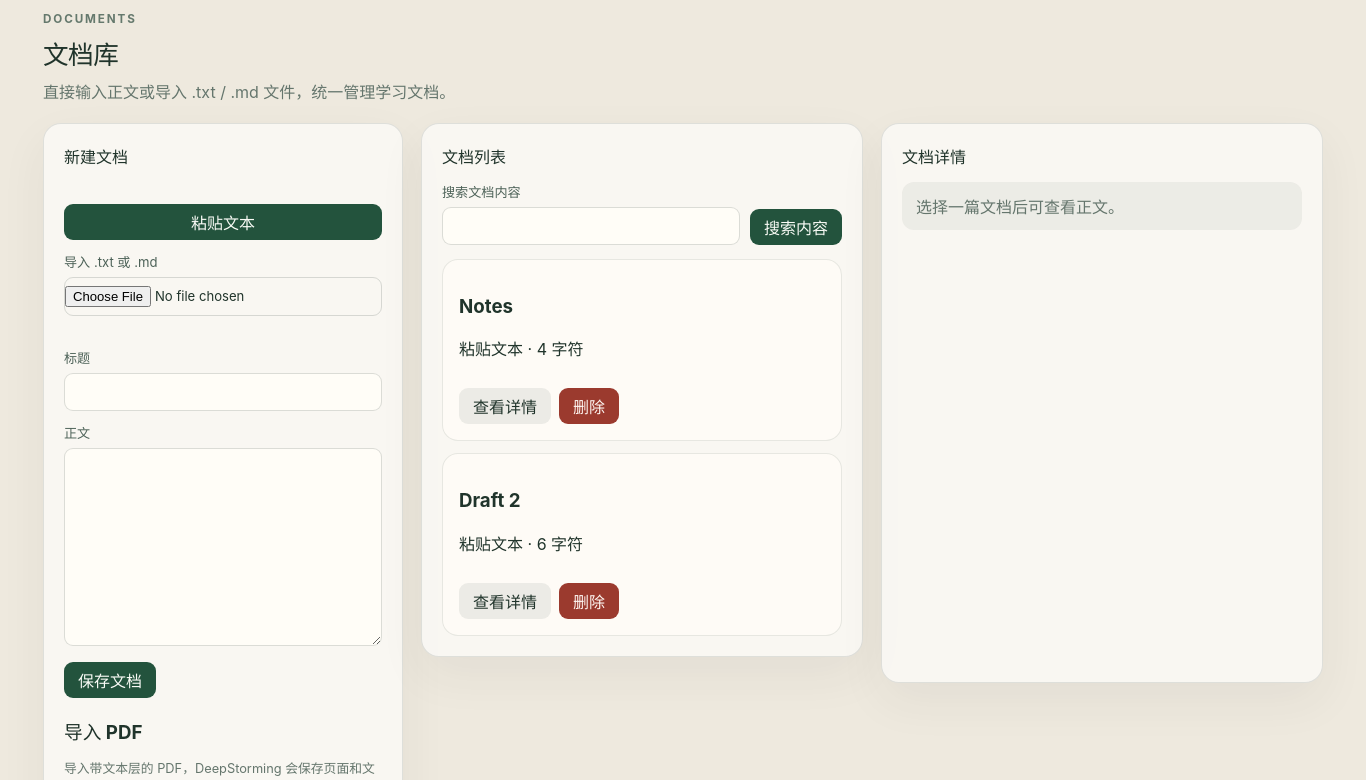
Test: DocumentLibrary › does not show stale detail content while a new selection is loading or after that request fails
Click the button "查看详情" below "Notes".
click(505, 406)  # box [459,388,551,424]
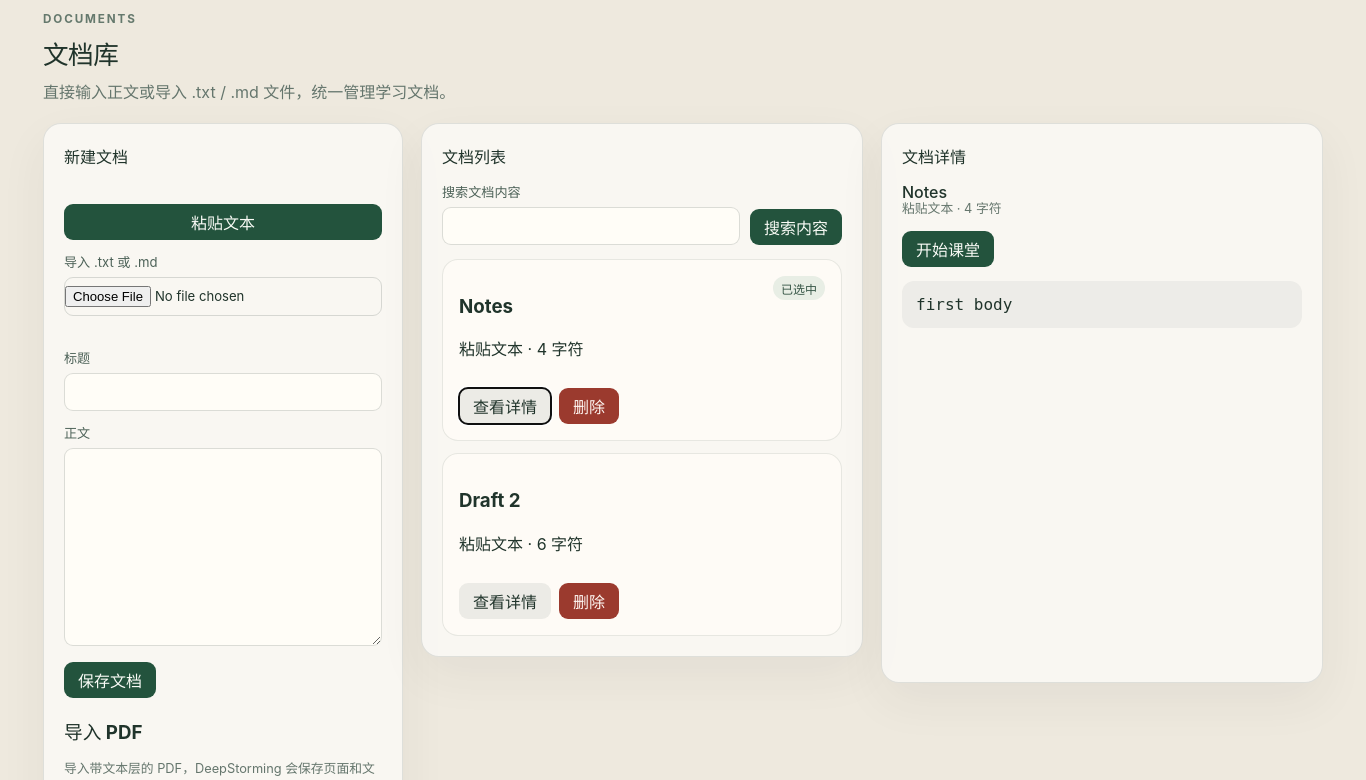
Check: the text "first body" is shown, box [902,281,1302,328]
Click the button "查看详情" below "Draft 2".
click(505, 601)  # box [459,583,551,619]
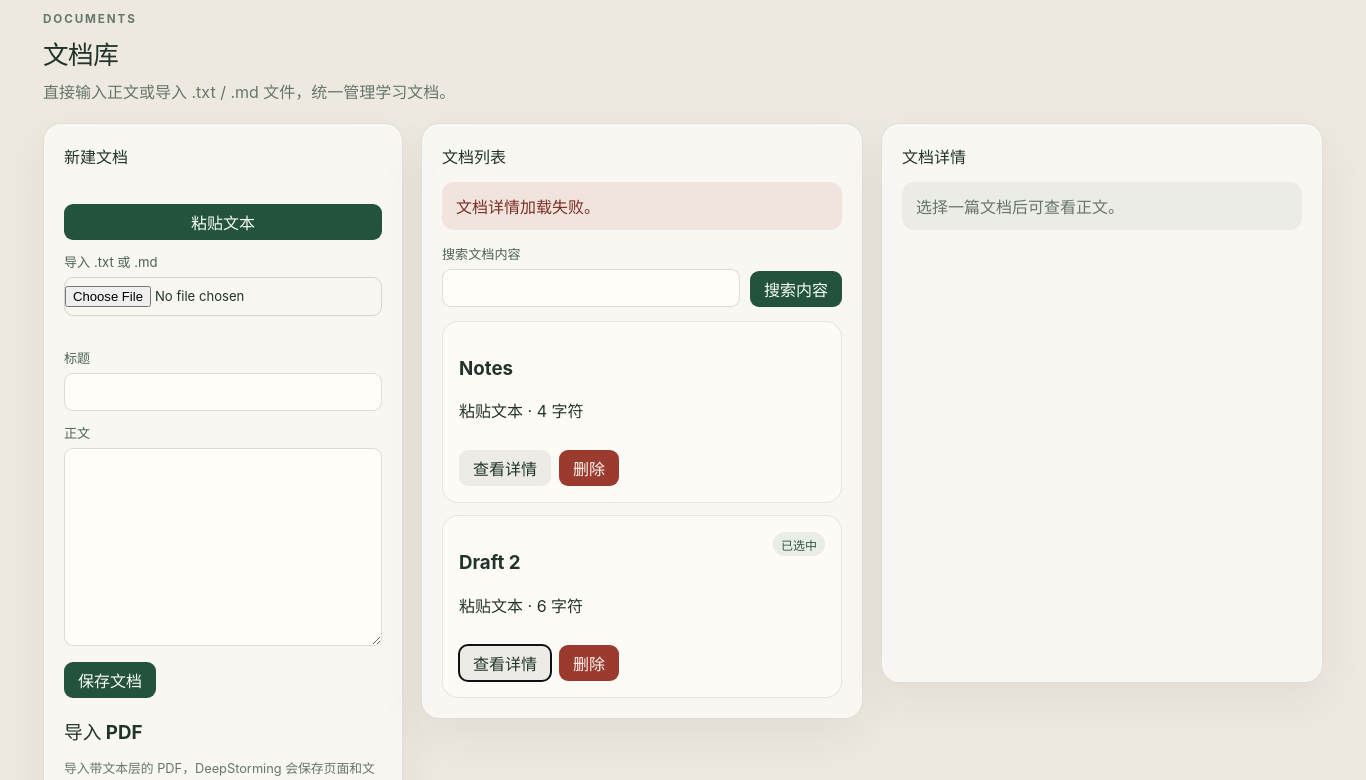
Check: the message reads "文档详情加载失败。", box [456,197,600,217]
Check: the text "first body" is gone
Check: the text "选择一篇文档后可查看正文。" is shown, box [902,182,1302,230]
